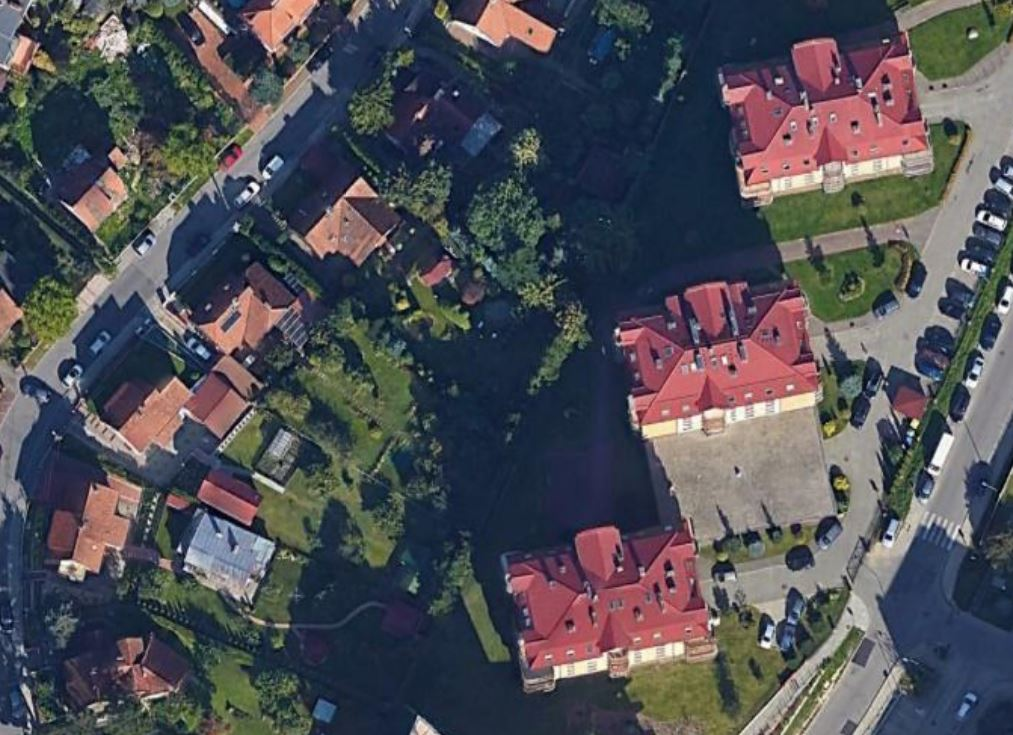block of flats: (597, 262, 843, 452), (487, 497, 721, 696), (710, 17, 936, 220)
family house: (268, 146, 402, 271), (29, 470, 147, 589), (65, 625, 201, 727), (188, 244, 304, 360), (90, 358, 196, 461), (45, 135, 139, 241), (224, 1, 333, 49)
